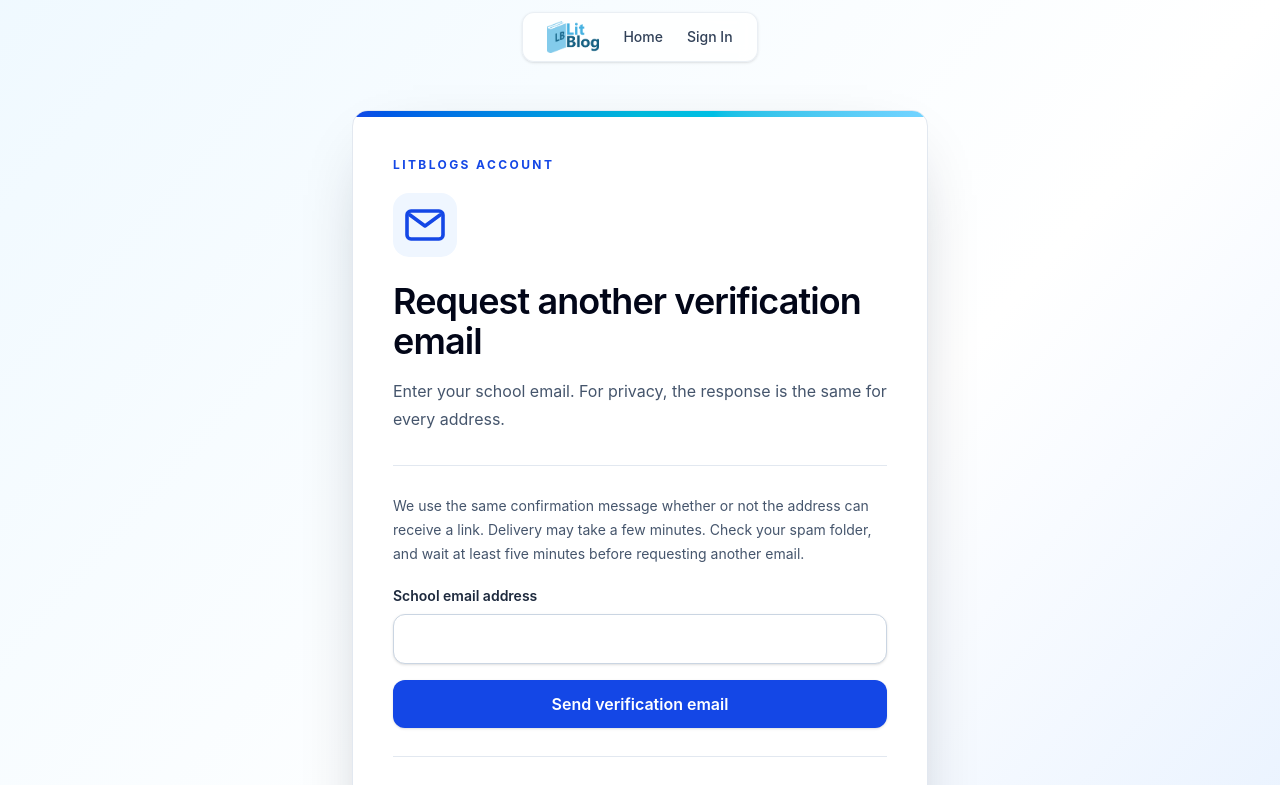
Test: generic verification resend › disables the resend controls while the request is pending
The image size is (1280, 785).
Type "student@school.example" into the field labelled "School email address" at {"x": 640, "y": 639}, box [393,614,887,664]
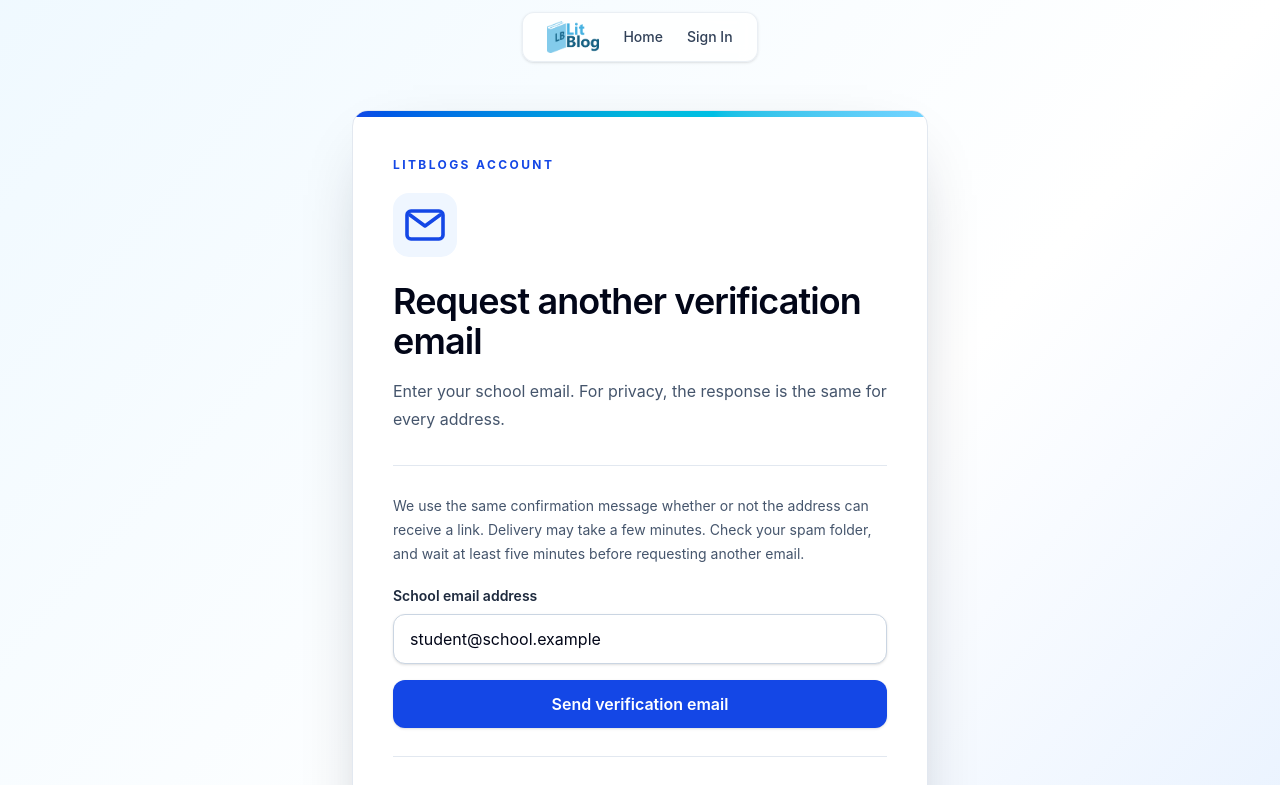
Click the button "Send verification email" at {"x": 640, "y": 704}, box [393,680,887,728]
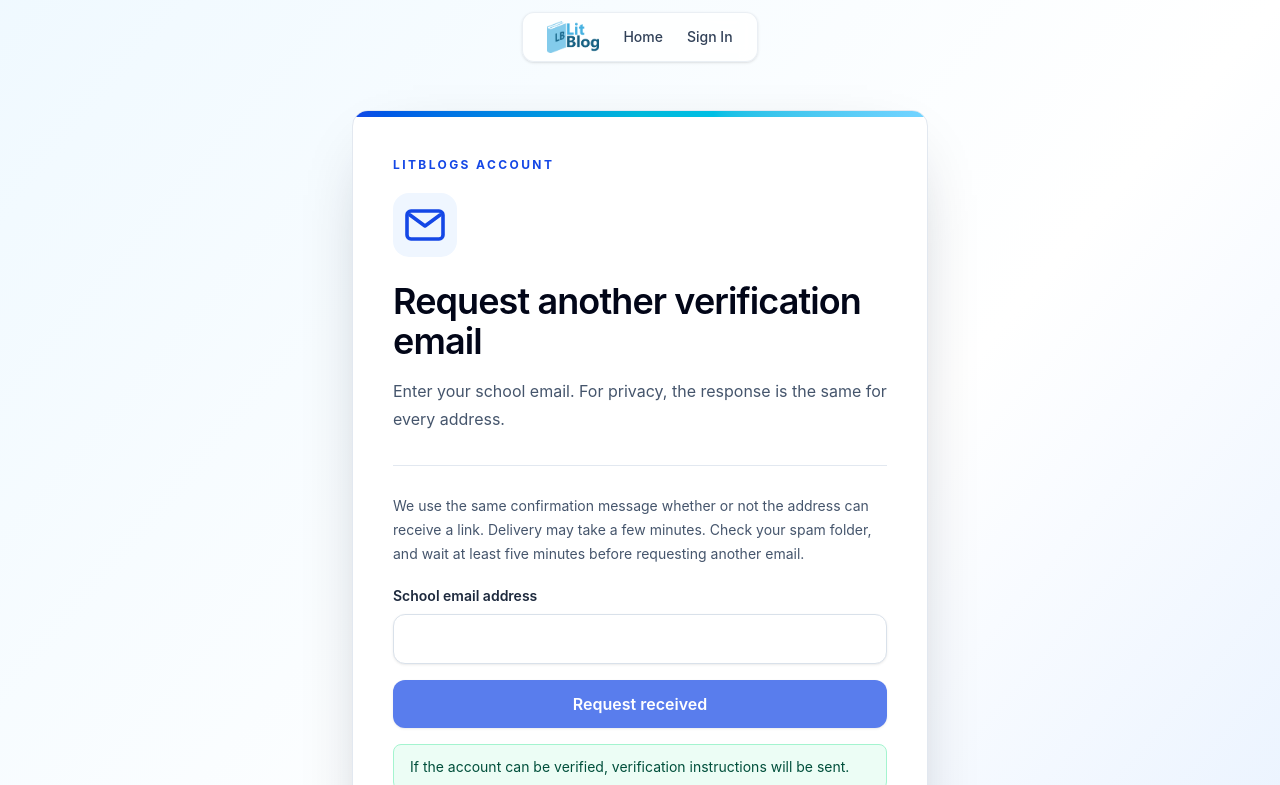
Expected: the field labelled "School email address" is disabled, [393,614,887,664]
Expected: the button named "Sending…" is disabled, [393,680,887,728]
